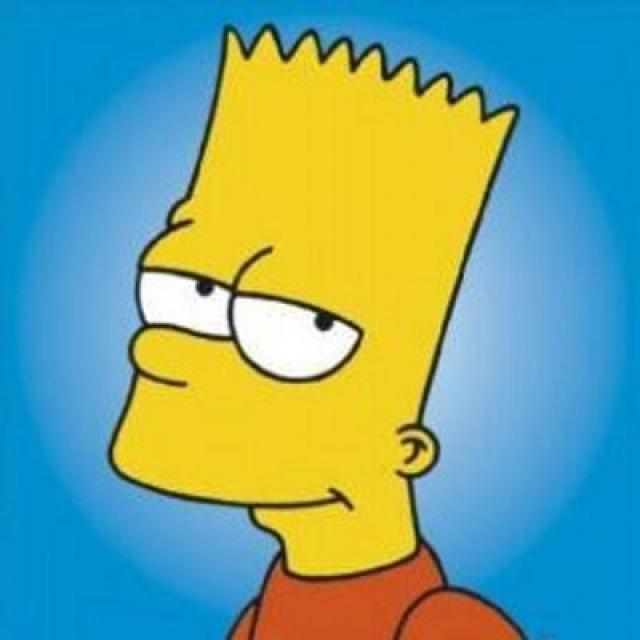Bart Simpson: (104, 16, 526, 589)
